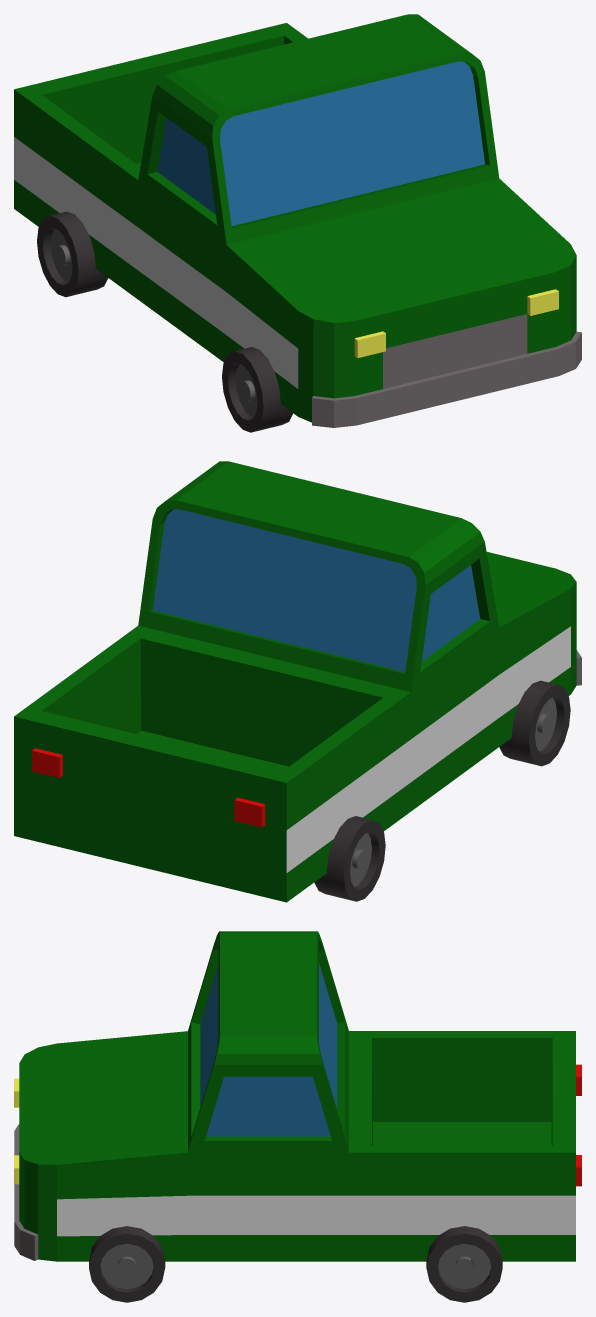
Rendered from pickup truck.fbx.
3 renders of one model, top to bottom at view 1: azimuth 30°, elevation 25°; view 2: azimuth 150°, elevation 25°; view 3: azimuth 270°, elevation 25°, orthographic. The views are drawn at different scales.
Parts seen in each view (by area): view 1: Pickup truck, Wheels; view 2: Pickup truck, Wheels; view 3: Pickup truck, Wheels.
Boxes of the visible parts, left/top/right/bottom form: Pickup truck: left=14, top=14, right=581, bottom=427; Wheels: left=37, top=211, right=292, bottom=432; Pickup truck: left=14, top=461, right=581, bottom=902; Wheels: left=314, top=680, right=570, bottom=901; Pickup truck: left=14, top=931, right=581, bottom=1261; Wheels: left=89, top=1226, right=502, bottom=1302.
Bounding box in the file's own units: 300 × 255 × 526.
